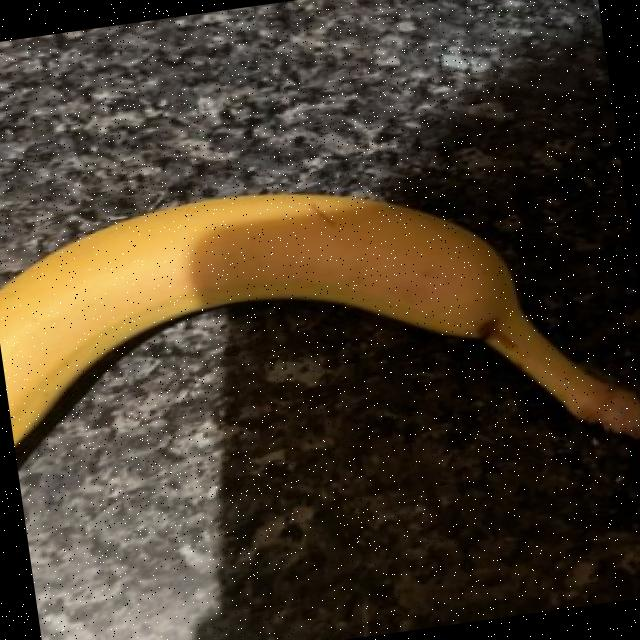Ripe: (0, 100, 640, 586)
